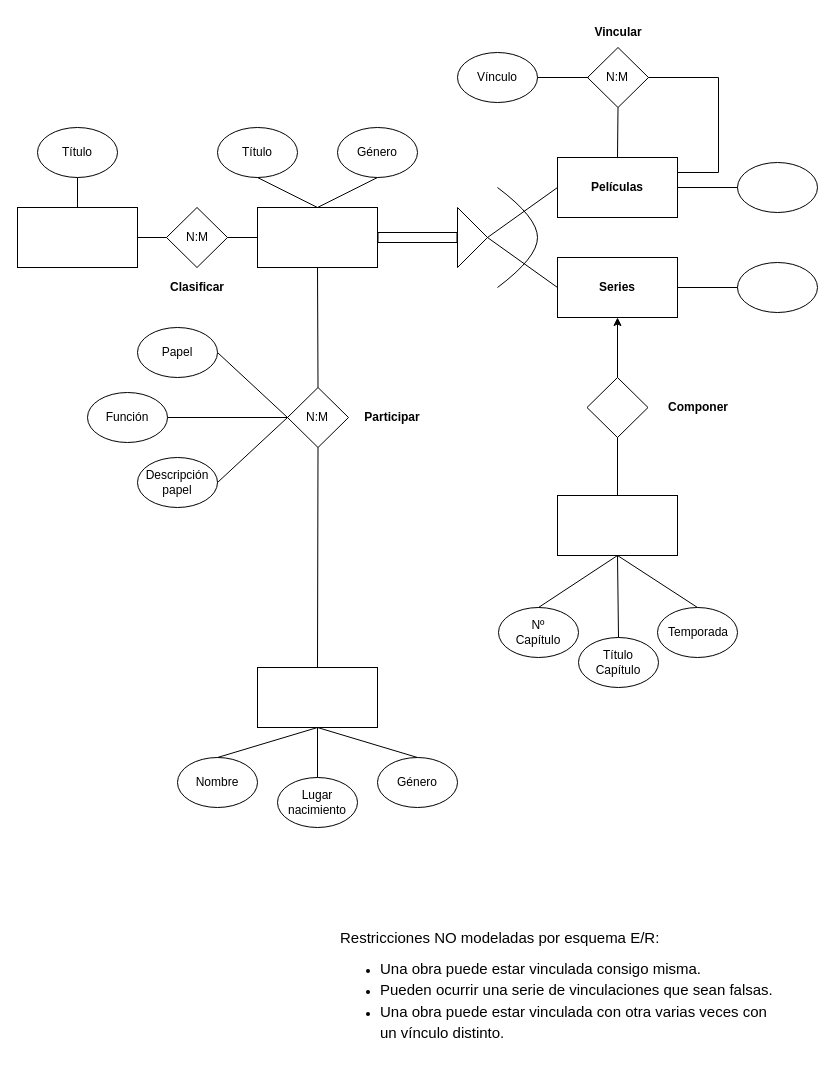
This 835x1073 diagram has some shape labels left out. Here are the shapes that lost their labels. From the top down, the centre of each, then its label:
At pixel 777 187: "Año estreno".
At pixel 77 237: "Genero".
At pixel 317 237: "Obra".
At pixel 777 287: "Periodo emisión".
At pixel 617 407: "1:N".
At pixel 617 525: "Capítulo".
At pixel 317 697: "Persona".
